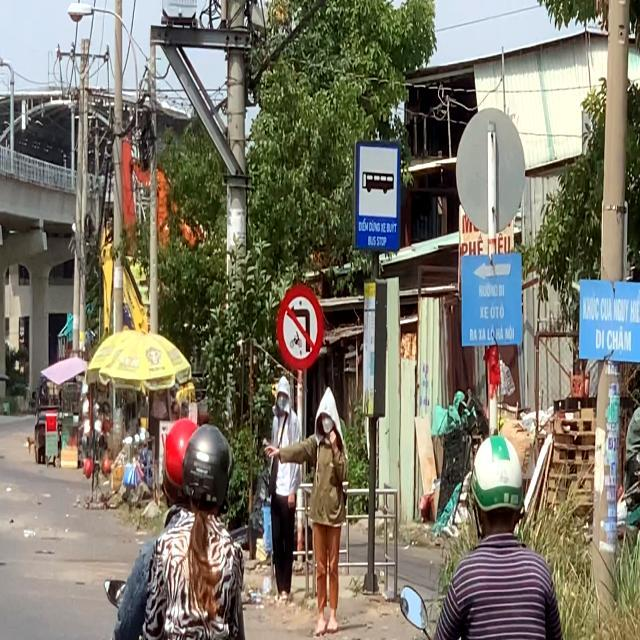I-434a: (354, 142, 400, 252)
P-123a: (276, 284, 322, 372)
